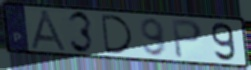3: (65, 10, 98, 55)
9: (139, 16, 168, 58), (210, 22, 237, 62)
A: (28, 9, 71, 53)
D: (99, 13, 135, 55)
P: (170, 18, 205, 60)
